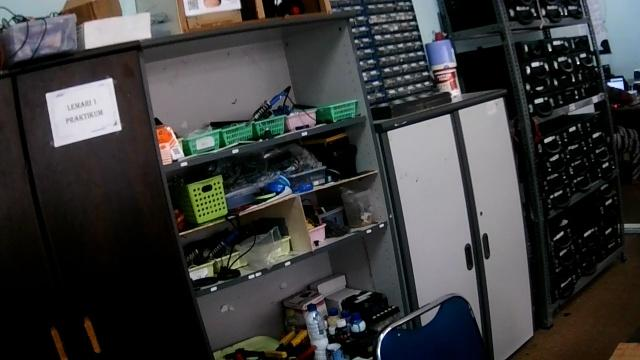Lemari: (375, 87, 536, 359)
Rak: (138, 9, 413, 359)
